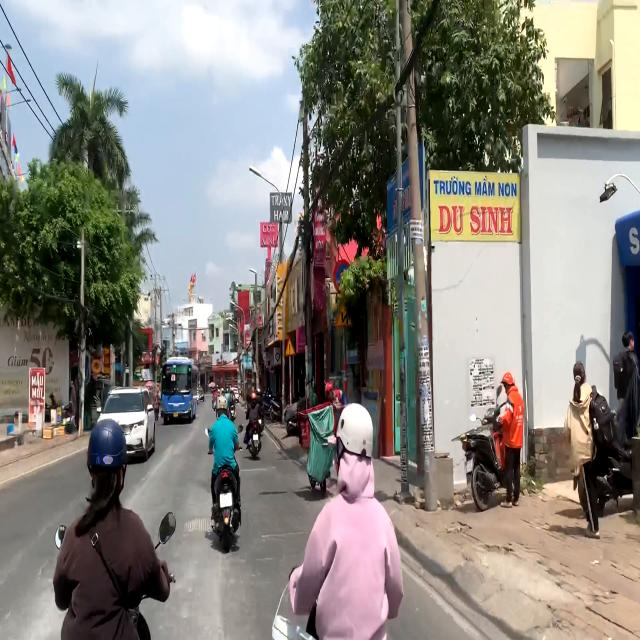W.202a: (336, 300, 353, 328)
W.233: (285, 337, 296, 356)
